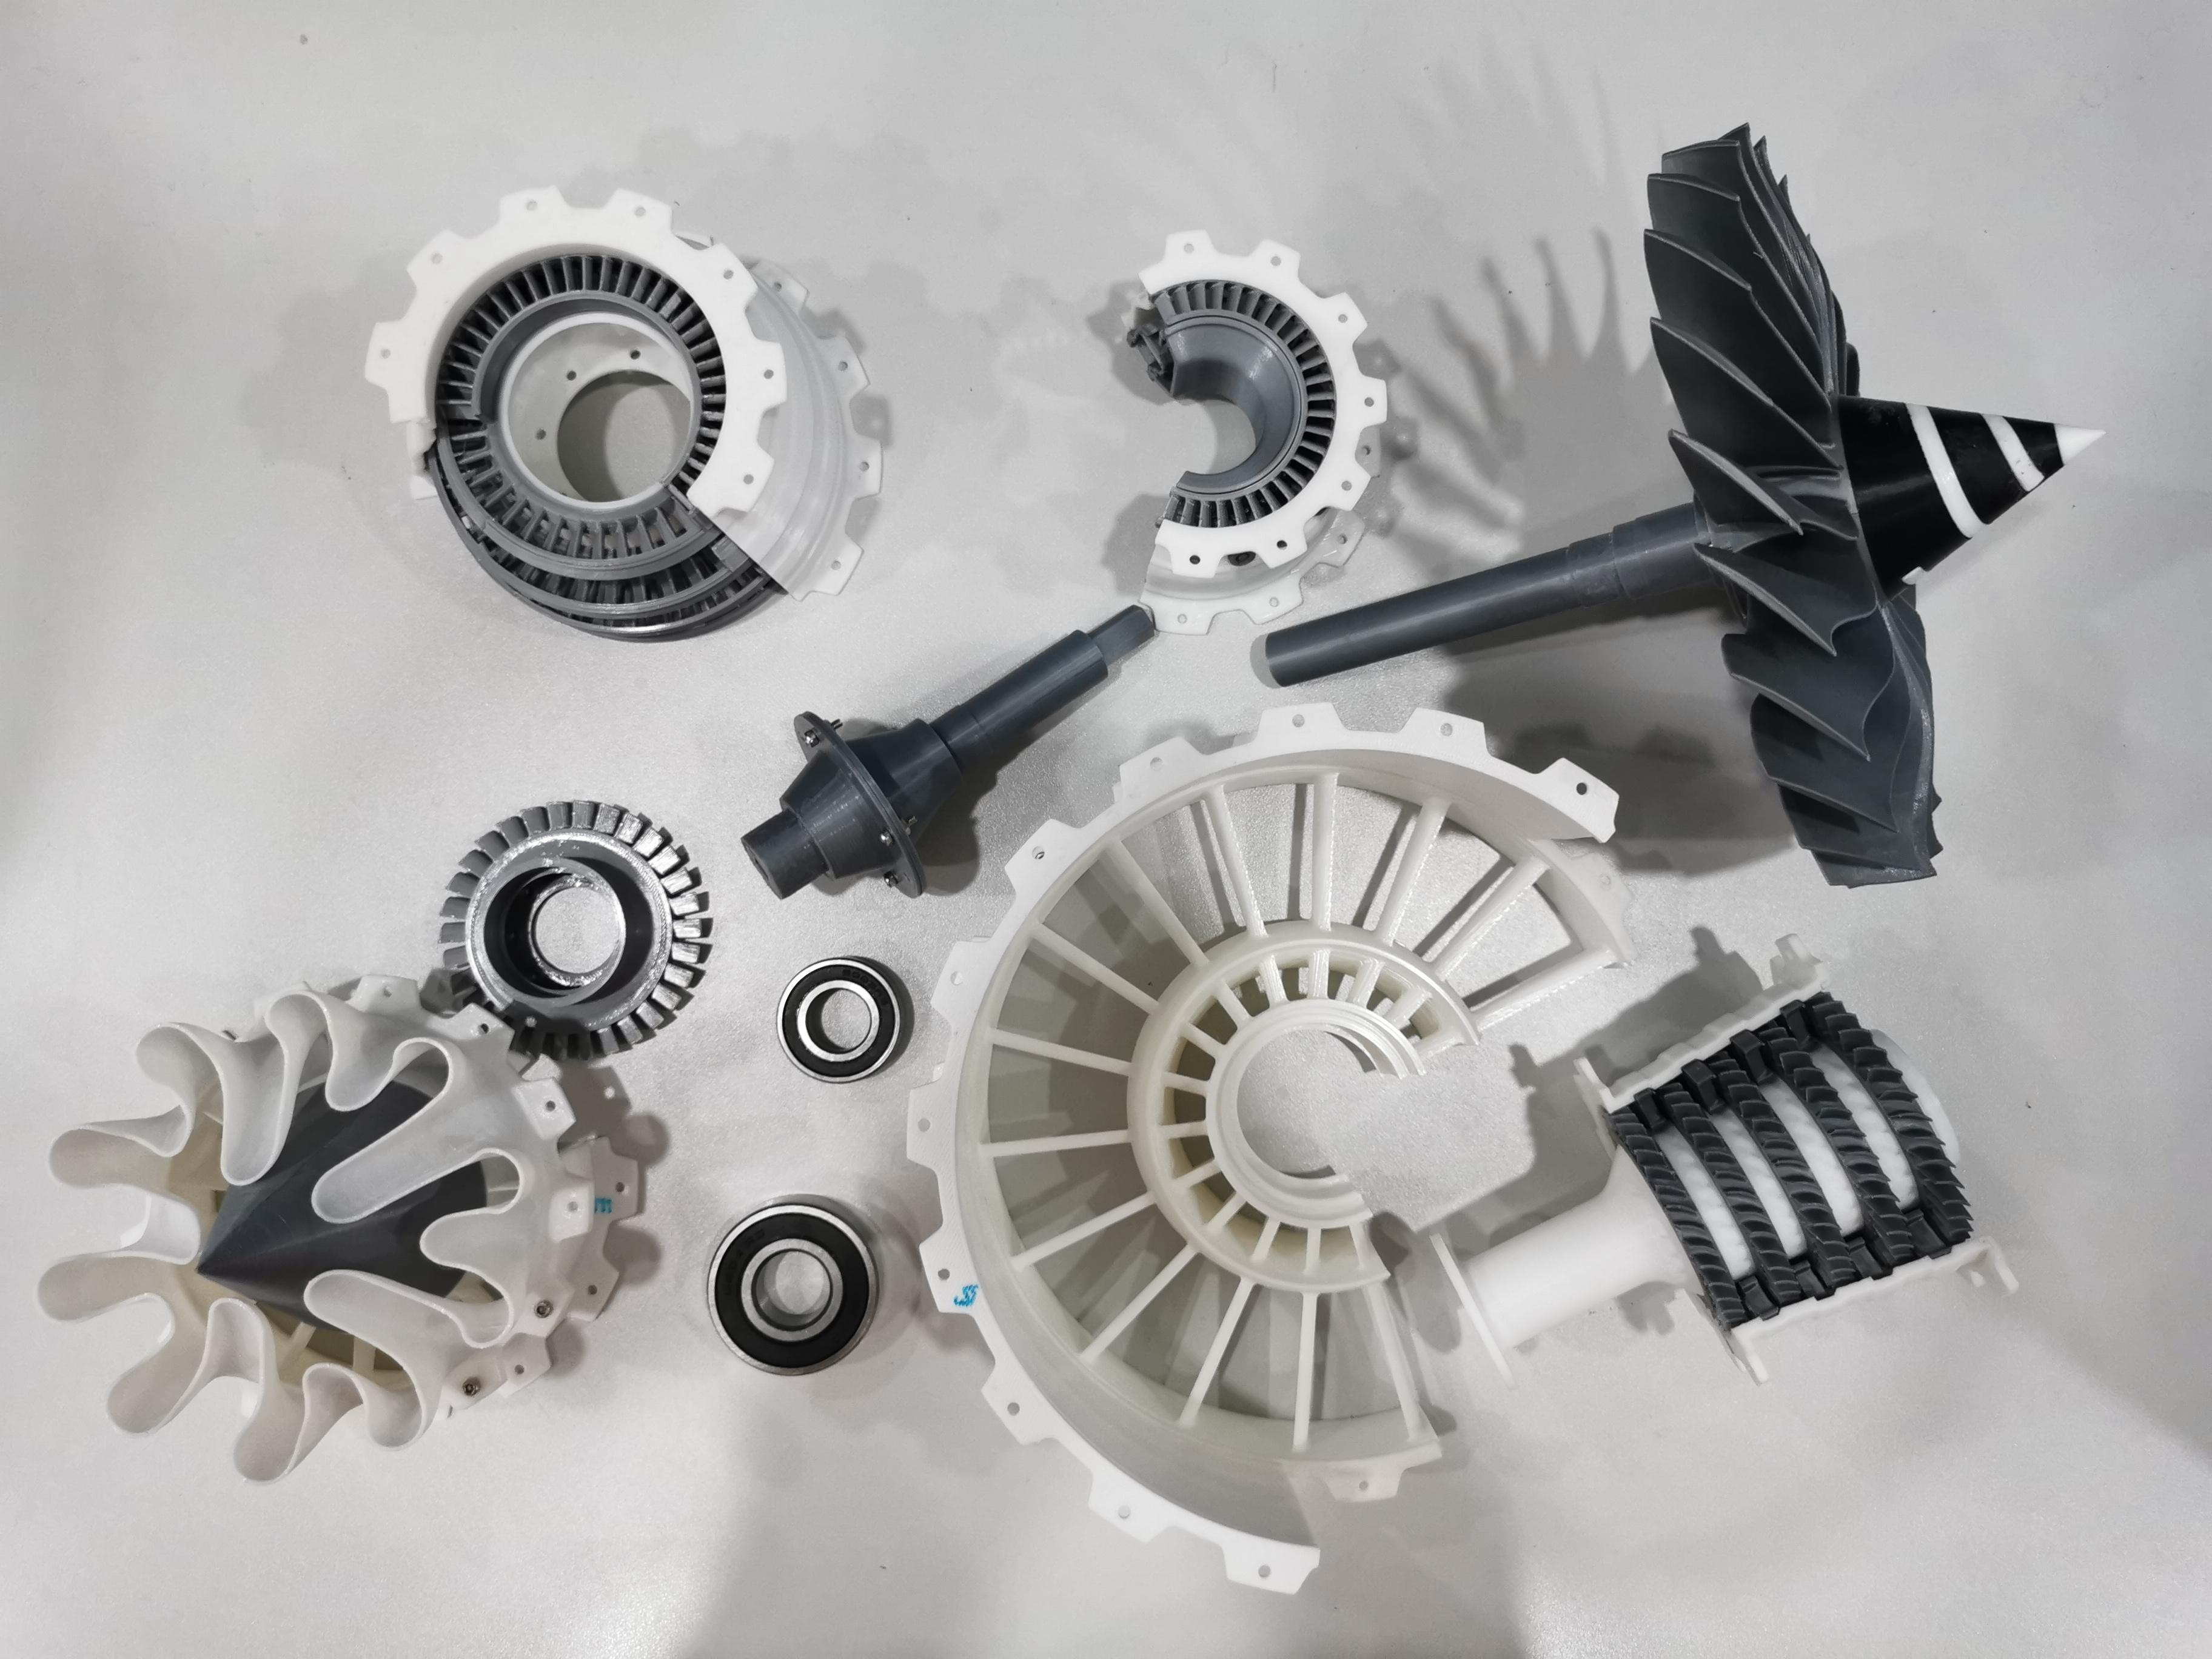Bearing-6003: (761, 943, 914, 1098)
Bearing-6204: (683, 1188, 897, 1413)
Combustion Section: (1104, 223, 1406, 647)
Fan Casing and Support: (897, 692, 1655, 1605)
Fan and Low Pressure Shaft: (1258, 115, 2118, 885)
HPT Section: (406, 786, 718, 1073)
High Pressure Spool: (1420, 922, 2026, 1413)
LPT Section: (347, 173, 897, 640)
Low Pressure Spool: (737, 596, 1181, 908)
Nozzle Section: (28, 962, 648, 1490)
